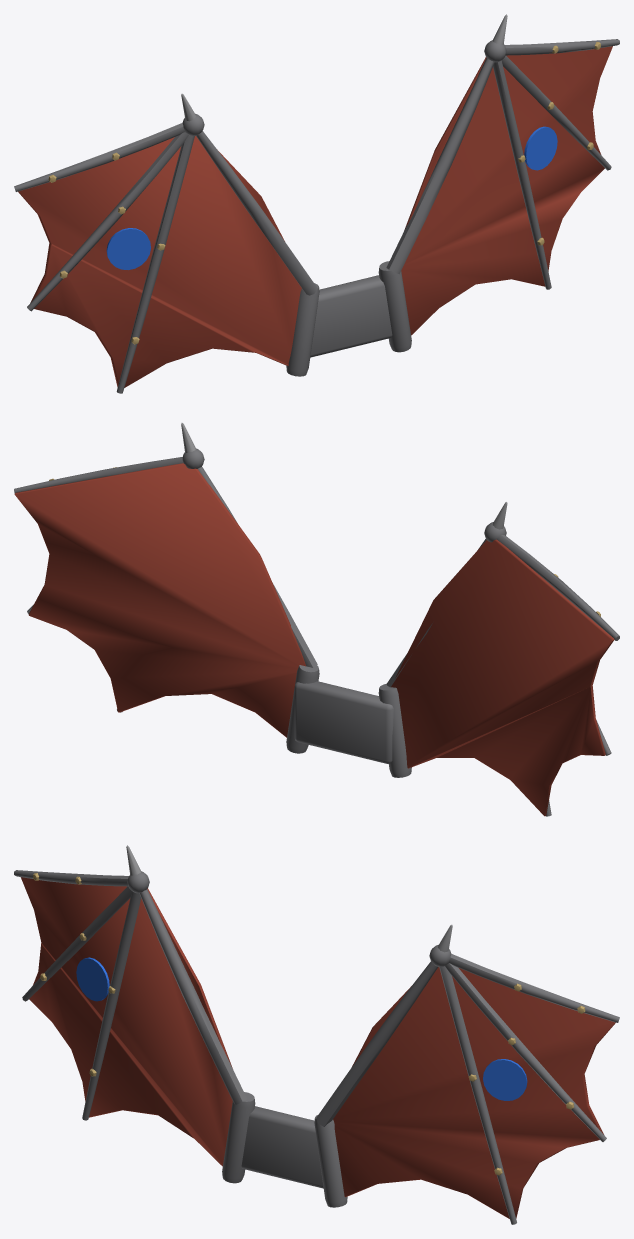
Rendered from Kit_Deco_Wings.glb.
The picture shows the model from 3 angles, top to bottom: view 1: azimuth 30°, elevation 25°; view 2: azimuth 150°, elevation 25°; view 3: azimuth 330°, elevation 25°; orthographic projection.
Visible parts, largest first — view 1: Kit_Deco_Wings; view 2: Kit_Deco_Wings; view 3: Kit_Deco_Wings.
Boxes of the visible parts, x1,y1,x2,y2 form: Kit_Deco_Wings: (14,14,619,393); Kit_Deco_Wings: (14,423,619,816); Kit_Deco_Wings: (14,845,619,1224).
Bounding box in the file's own units: 1.05 × 0.5039 × 0.1269.
